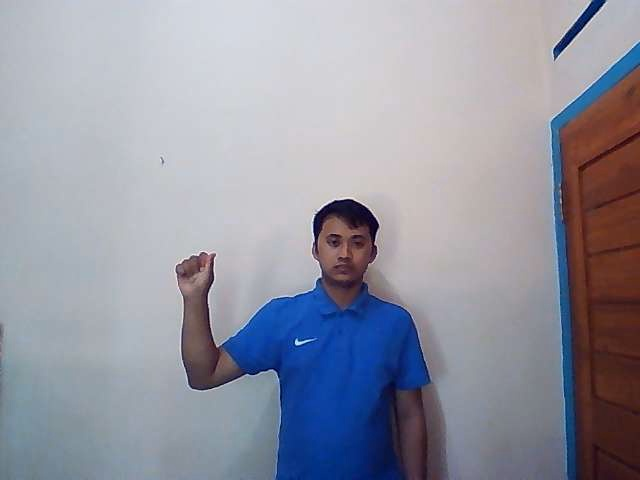A: (175, 251, 218, 297)
